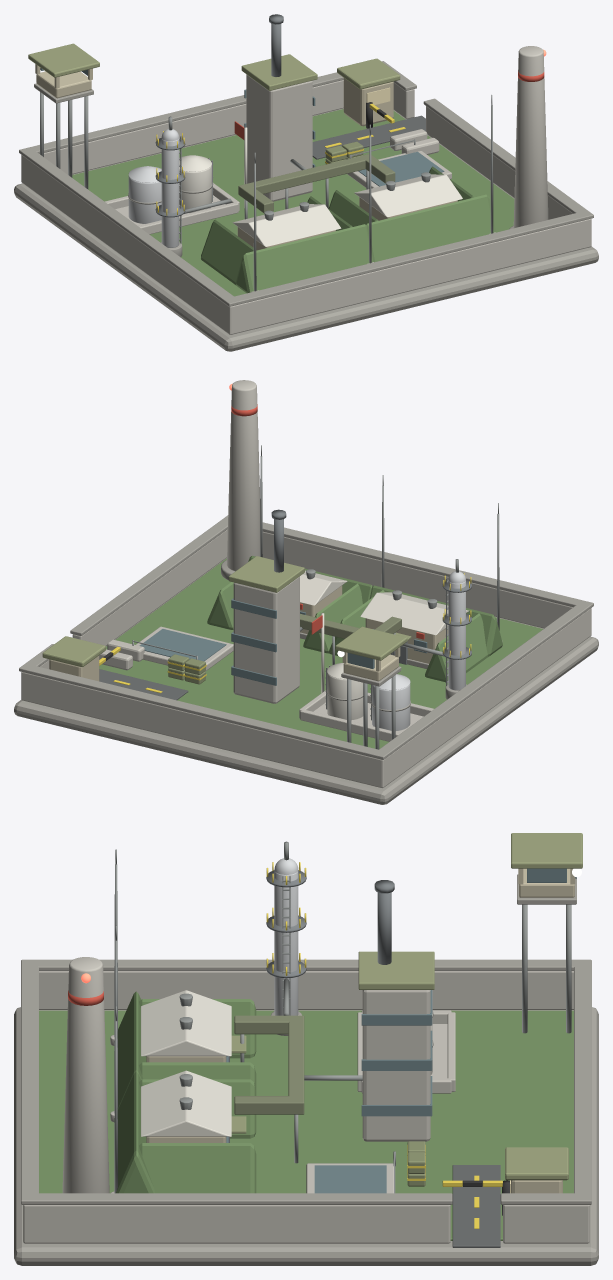
The model's file is tnt_9.glb.
The picture shows the model from 3 angles, top to bottom: view 1: azimuth 30°, elevation 25°; view 2: azimuth 150°, elevation 25°; view 3: azimuth 270°, elevation 25°; orthographic projection. The views are drawn at different scales.
Parts seen in each view (by area): view 1: Cube.001, Cube, Cube.092, Cube.052, Cube.094, Cube.090, Cone.009, prism, prism.004, Cube.093, Cube.095, Cube.098 (+27 smaller); view 2: Cube.001, Cube, Cube.090, Cube.092, Cube.052, Cube.094, Cone.009, Cube.098, Cube.091, Cube.093, Cube.095, prism.003 (+20 smaller); view 3: Cube.001, Cube, Cube.098, Cube.094, Cone.009, Cube.052, prism.006, prism.003, prism.007, Cube.099, Cube.095, Cube.093 (+32 smaller).
Boxes of the visible parts, x1,y1,x2,y2 form: Cube.001: [72, 109, 514, 296]; Cube: [14, 108, 598, 351]; Cube.092: [225, 218, 591, 334]; Cube.052: [246, 74, 312, 201]; Cube.094: [24, 157, 226, 332]; Cube.090: [21, 80, 343, 183]; Cone.009: [513, 46, 548, 227]; prism: [235, 224, 373, 293]; prism.004: [366, 194, 496, 262]; Cube.093: [223, 210, 593, 306]; Cube.095: [21, 149, 236, 303]; Cube.098: [426, 106, 572, 219]; Cube.001: [99, 558, 543, 748]; Cube: [14, 558, 598, 804]; Cube.090: [21, 672, 387, 788]; Cube.092: [262, 531, 591, 637]; Cube.052: [233, 576, 299, 703]; Cube.094: [386, 611, 588, 785]; Cone.009: [226, 380, 260, 571]; Cube.098: [72, 529, 227, 645]; Cube.091: [19, 664, 389, 759]; Cube.093: [224, 515, 593, 607]; Cube.095: [379, 602, 591, 757]; prism.003: [360, 592, 468, 635]; Cube.001: [39, 1010, 573, 1240]; Cube: [14, 1007, 598, 1265]; Cube.098: [32, 1205, 450, 1243]; Cube.094: [39, 971, 573, 1009]; Cone.009: [62, 957, 109, 1193]; Cube.052: [362, 990, 430, 1141]; prism.006: [139, 1143, 256, 1193]; prism.003: [141, 990, 231, 1056]; prism.007: [141, 1070, 231, 1136]; Cube.099: [29, 1193, 452, 1204]; Cube.095: [29, 959, 583, 970]; Cube.093: [21, 959, 38, 1204].
Bounding box in the file's own units: 2.92 × 1.53 × 2.92.
